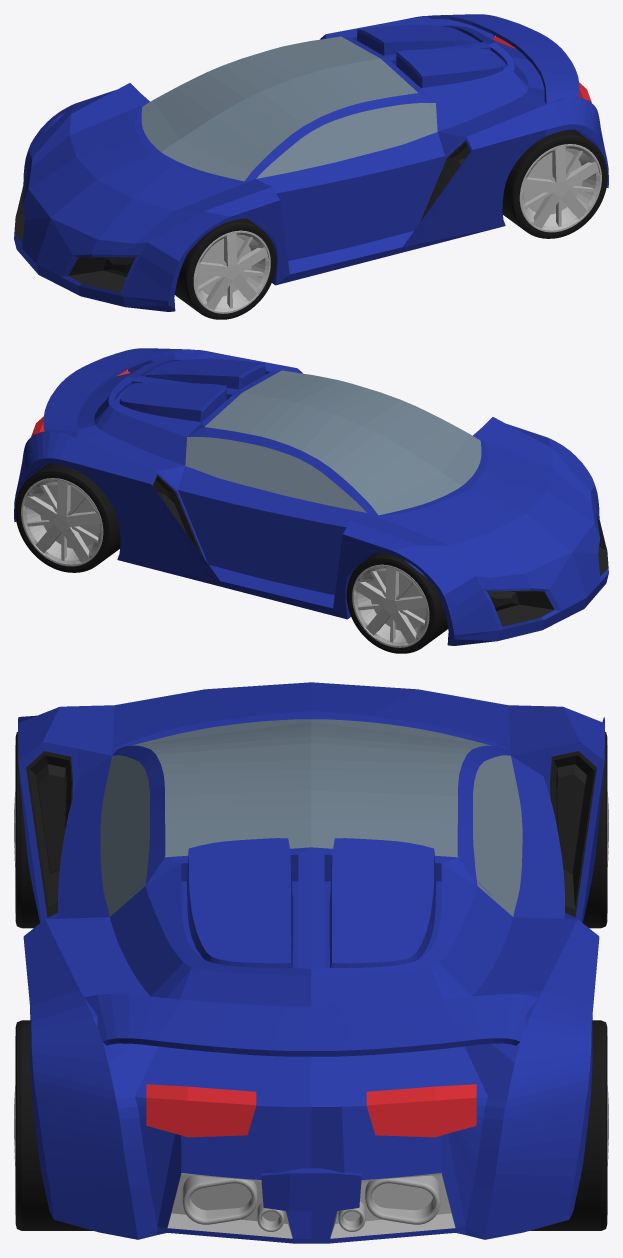
File: CarTingBlue.fbx
The picture shows the model from 3 angles, top to bottom: view 1: azimuth 30°, elevation 25°; view 2: azimuth 150°, elevation 25°; view 3: azimuth 270°, elevation 25°; orthographic projection. The views are drawn at different scales.
Visible parts, largest first — view 1: Body, Circle.002, Circle.003; view 2: Body, Circle.001, Circle.000; view 3: Body, Brake, Circle.001, Circle.002, Circle.000, Circle.003.
Part boxes in pixels (left/top/right/bottom): Body: left=14, top=14, right=608, bottom=311; Circle.002: left=502, top=129, right=607, bottom=238; Circle.003: left=174, top=218, right=276, bottom=319; Body: left=14, top=348, right=608, bottom=645; Circle.001: left=15, top=463, right=120, bottom=572; Circle.000: left=346, top=552, right=448, bottom=653; Body: left=18, top=682, right=604, bottom=1243; Brake: left=146, top=1084, right=476, bottom=1137; Circle.001: left=530, top=1020, right=608, bottom=1230; Circle.002: left=14, top=1020, right=92, bottom=1230; Circle.000: left=583, top=732, right=608, bottom=928; Circle.003: left=14, top=732, right=39, bottom=928.
Bounding box in the file's own units: 545 × 154 × 278.
